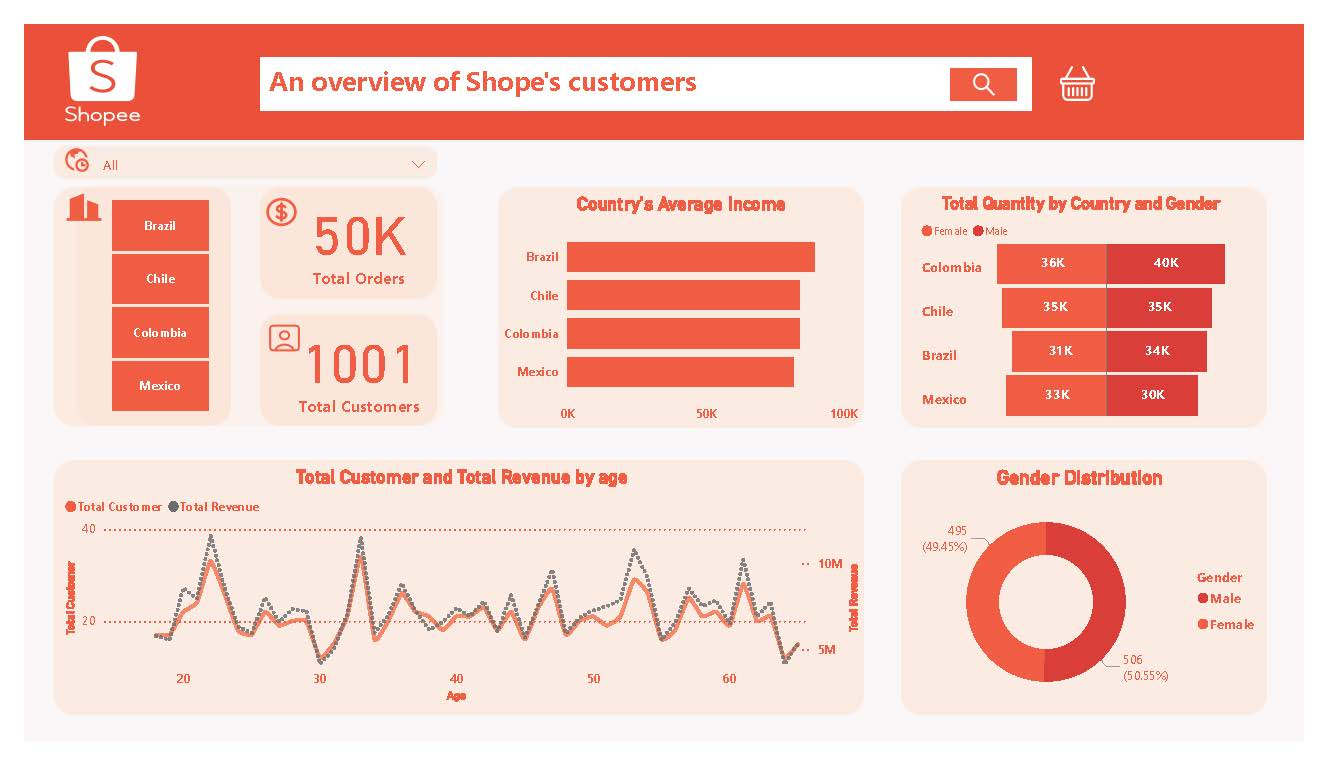

This screenshot's page, from the dashboard's own definition file:
{"tool":"powerbi","page":{"name":"Customer Overview","canvas":[1280,720],"ordinal":0},"visuals":[{"type":"donutChart","title":"Gender Distribution ","fields":{"Category":["customer.gender"],"Y":["Count(customer.customer_id)"]},"box":[865.6,442.2,380,250],"z":0},{"type":"lineChart","fields":{"Category":["customer.age"],"Y":["Count(customer.customer_id)"],"Y2":["purchase.Total Revenue"]},"box":[36.4,442.5,803.3,239.4],"z":1000},{"type":"clusteredBarChart","title":"Country''s Average Income","fields":{"Y":["Avg(customer.income)"],"Category":["customer.country"]},"box":[474.7,169.2,365.7,238.3],"z":2000},{"type":"card","fields":{"Values":["Count(customer.customer_id)"]},"box":[260,294.4,151.1,98.9],"z":3000},{"type":"slicer","fields":{"Values":["customer.country"]},"box":[63.3,168.9,145.6,224.4],"z":4000},{"type":"TornadoChart1452517688218","title":"Total Quantity by Country and Gender","fields":{"Category":["customer.country"],"Series":["customer.gender"],"Values":["Sum(purchase.quantity)"]},"box":[893.3,168.9,327.8,246.7],"z":5000},{"type":"card","fields":{"Values":["purchase.Total Orders"]},"box":[265.6,154.4,138.9,121.1],"z":6000},{"type":"slicer","fields":{"Values":["purchase.order_date.Variation.Date Hierarchy.Year","purchase.order_date.Variation.Date Hierarchy.Quarter"]},"box":[63.3,115.6,353.3,53.3],"z":7000},{"type":"textbox","box":[240.2,33.1,589.4,51.6],"z":8000}]}

Visuals, with their boxes in screenshot pixels (x1, y1, x2, y2), scaled from the page's 1280x720 canvas onto the 1328x768 screenshot:
"Gender Distribution " donutChart: pyautogui.locateOnScreen(898, 472, 1292, 738)
lineChart - customer.age x Count(customer.customer_id): pyautogui.locateOnScreen(38, 472, 871, 727)
"Country''s Average Income" clusteredBarChart: pyautogui.locateOnScreen(493, 180, 872, 435)
card - Count(customer.customer_id): pyautogui.locateOnScreen(270, 314, 427, 420)
slicer - customer.country: pyautogui.locateOnScreen(66, 180, 217, 420)
"Total Quantity by Country and Gender" TornadoChart1452517688218: pyautogui.locateOnScreen(927, 180, 1267, 443)
card - purchase.Total Orders: pyautogui.locateOnScreen(276, 165, 420, 294)
slicer - purchase.order_date.Variation.Date Hierarchy.Year x purchase.order_date.Variation.Date Hierarchy.Quarter: pyautogui.locateOnScreen(66, 123, 432, 180)
textbox: pyautogui.locateOnScreen(249, 35, 861, 90)
